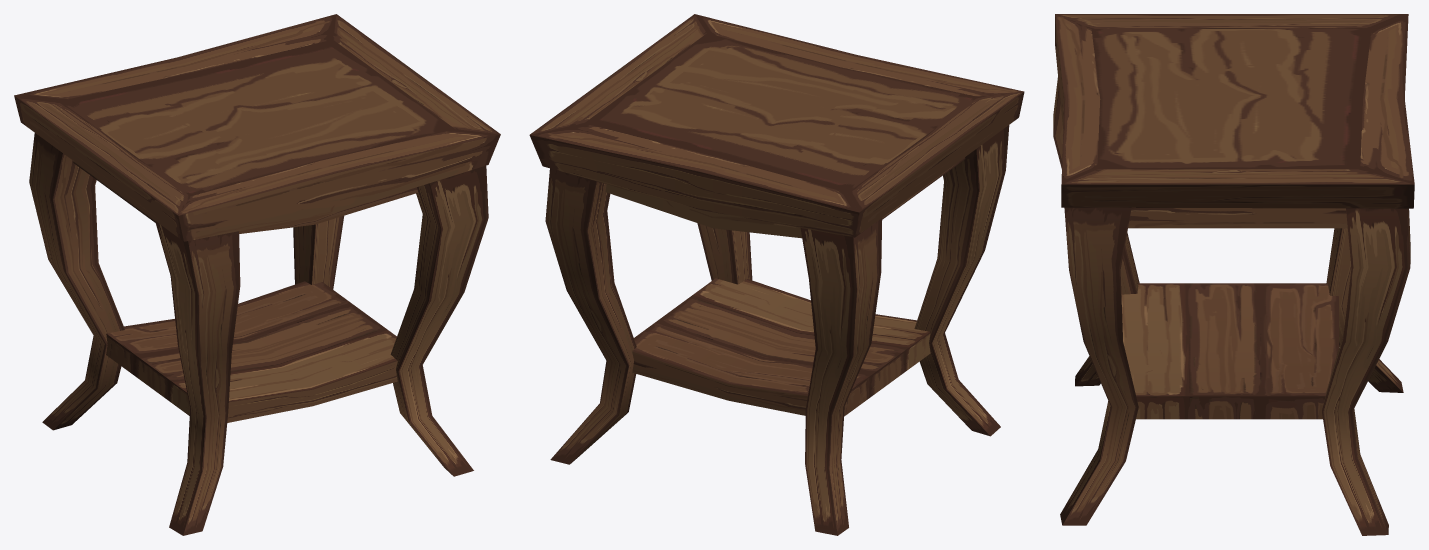
File: SM_PROP_table_interior_04.fbx
3 views of the same model, side by side, from view 1: azimuth 30°, elevation 25°; view 2: azimuth 150°, elevation 25°; view 3: azimuth 270°, elevation 25° (orthographic). The views are drawn at different scales.
Visible parts, largest first — view 1: SM_PROP_table_interior_04; view 2: SM_PROP_table_interior_04; view 3: SM_PROP_table_interior_04.
Part boxes in pixels (<box>): SM_PROP_table_interior_04: <box>14,14,500,535</box>; SM_PROP_table_interior_04: <box>529,14,1024,535</box>; SM_PROP_table_interior_04: <box>1053,14,1414,535</box>.
Bounding box in the file's own units: 91.8 × 89.04 × 82.21.
